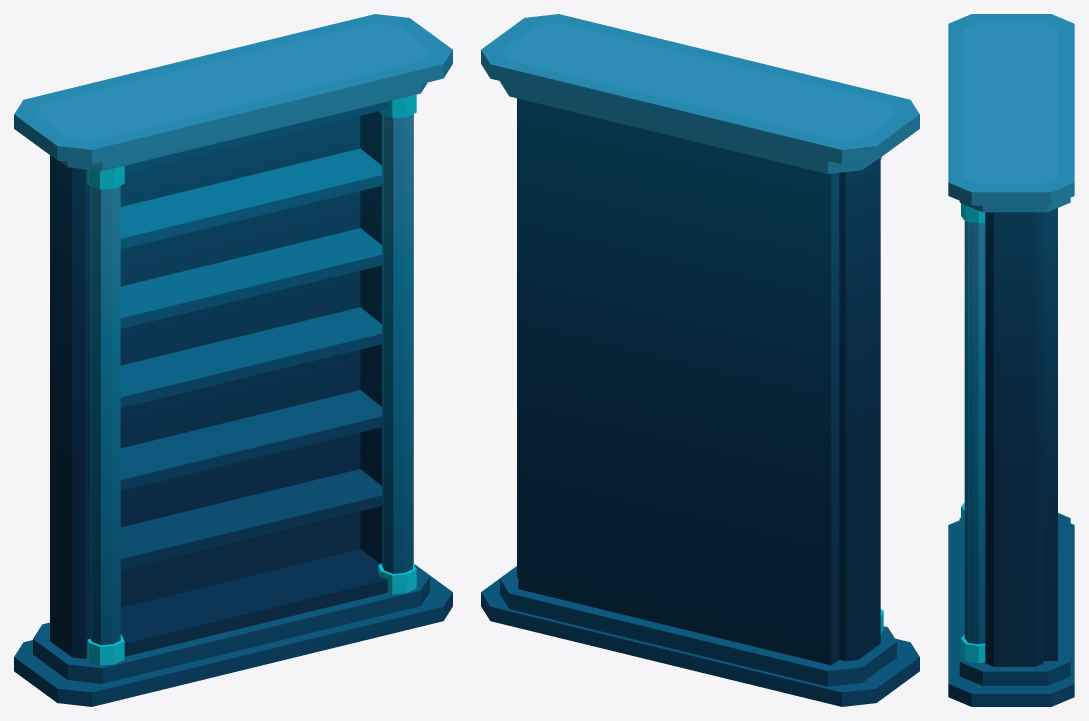
The model's file is Bookshelf 01.fbx.
3 renders of one model, left to right at view 1: azimuth 30°, elevation 25°; view 2: azimuth 150°, elevation 25°; view 3: azimuth 270°, elevation 25°, orthographic. The views are drawn at different scales.
Visible parts, largest first — view 1: Bookshelf 01.001; view 2: Bookshelf 01.001; view 3: Bookshelf 01.001.
Part boxes in pixels (box(x1,y1,x2,y2)): Bookshelf 01.001: box(14, 14, 452, 706); Bookshelf 01.001: box(481, 14, 919, 706); Bookshelf 01.001: box(948, 14, 1074, 706).
Size of the model in its own units: 199 by 267 by 59.62.
